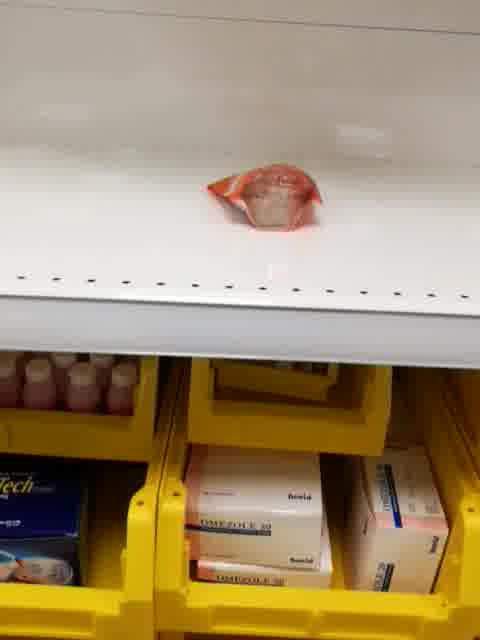whitechia: (204, 162, 323, 232)
